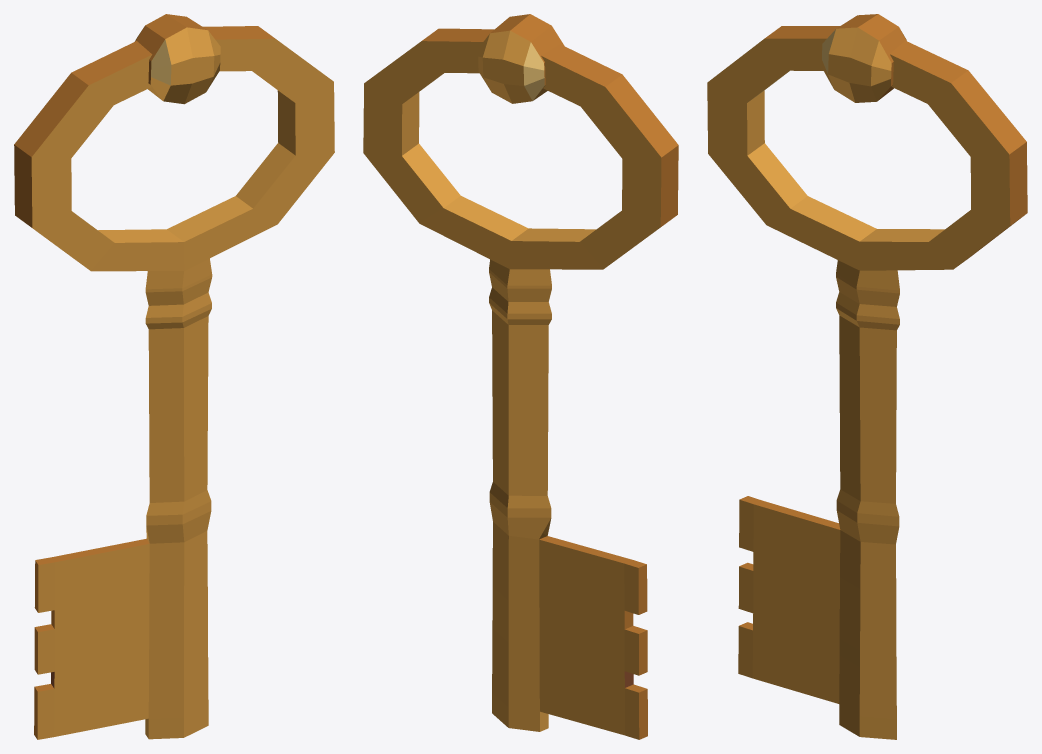
File: Llave.obj
The picture shows the model from 3 angles, left to right: view 1: azimuth 30°, elevation 25°; view 2: azimuth 150°, elevation 25°; view 3: azimuth 330°, elevation 25°; orthographic projection.
Visible parts, largest first — view 1: Key_Circle.002; view 2: Key_Circle.002; view 3: Key_Circle.002.
Boxes of the visible parts, box(x1,y1,x2,y2) form: Key_Circle.002: box(14, 14, 334, 739); Key_Circle.002: box(363, 14, 678, 739); Key_Circle.002: box(707, 14, 1027, 739).
Size of the model in its own units: 0.0414 by 0.093 by 0.00842.
